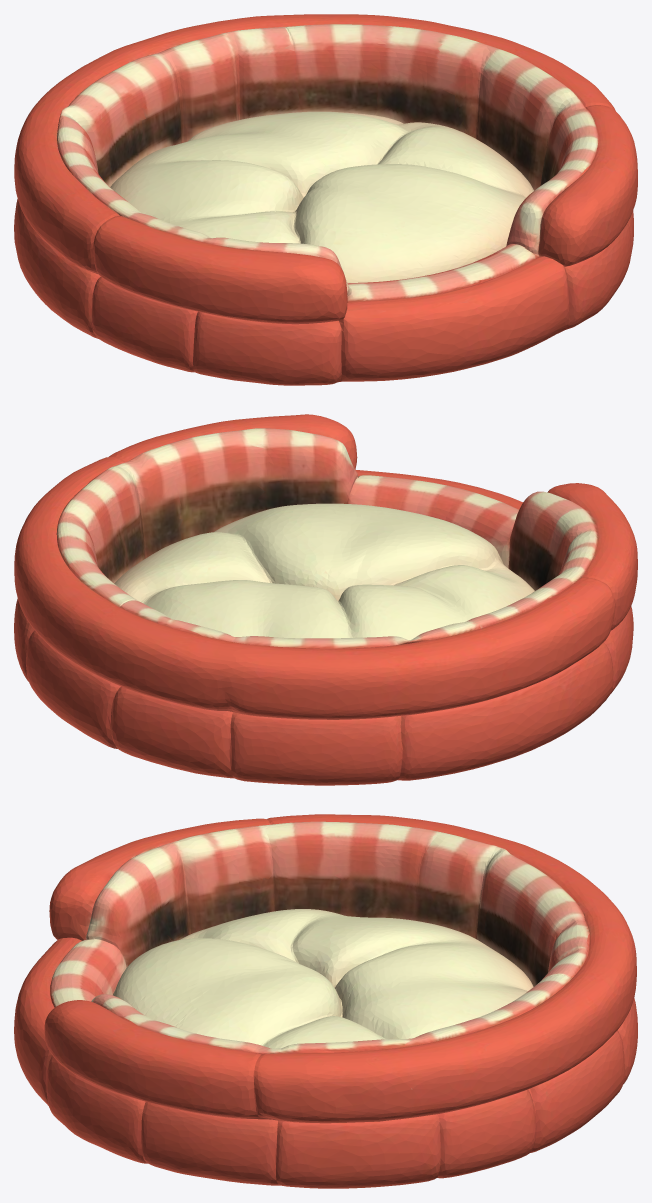
The picture shows the model from 3 angles, top to bottom: view 1: azimuth 30°, elevation 25°; view 2: azimuth 150°, elevation 25°; view 3: azimuth 270°, elevation 25°; orthographic projection.
Visible parts, largest first — view 1: tripo_node_7c25abf4-57d2-4e9c-9704-779cff4a1aa6; view 2: tripo_node_7c25abf4-57d2-4e9c-9704-779cff4a1aa6; view 3: tripo_node_7c25abf4-57d2-4e9c-9704-779cff4a1aa6.
Part boxes in pixels (bbox=[...]): tripo_node_7c25abf4-57d2-4e9c-9704-779cff4a1aa6: bbox=[14, 14, 637, 385]; tripo_node_7c25abf4-57d2-4e9c-9704-779cff4a1aa6: bbox=[14, 414, 637, 785]; tripo_node_7c25abf4-57d2-4e9c-9704-779cff4a1aa6: bbox=[14, 814, 637, 1188].
Bounding box in the file's own units: 0.9798 × 0.2403 × 0.9761.
1 material, 1 textured.
